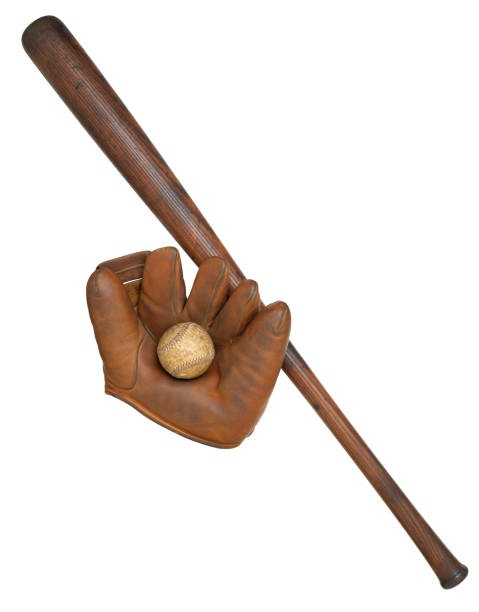bita: (24, 19, 469, 591)
